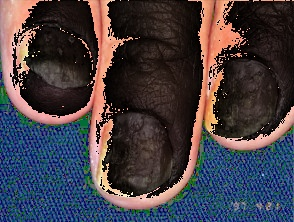Nail_psoriasis: (77, 94, 200, 217), (199, 31, 294, 154), (8, 12, 101, 102)
